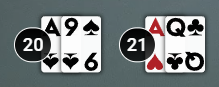9: (61, 15, 81, 39)
a: (142, 15, 166, 40), (39, 16, 62, 39)
q: (164, 15, 188, 40)
